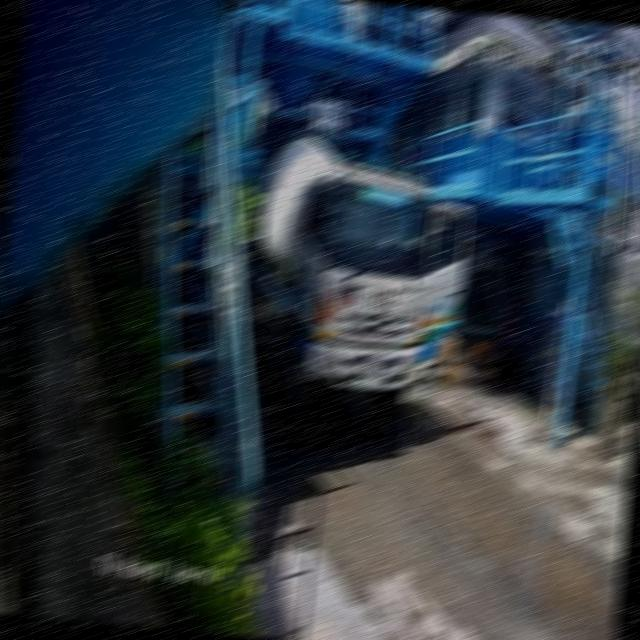cement_mixer_truck: (236, 138, 470, 427)
